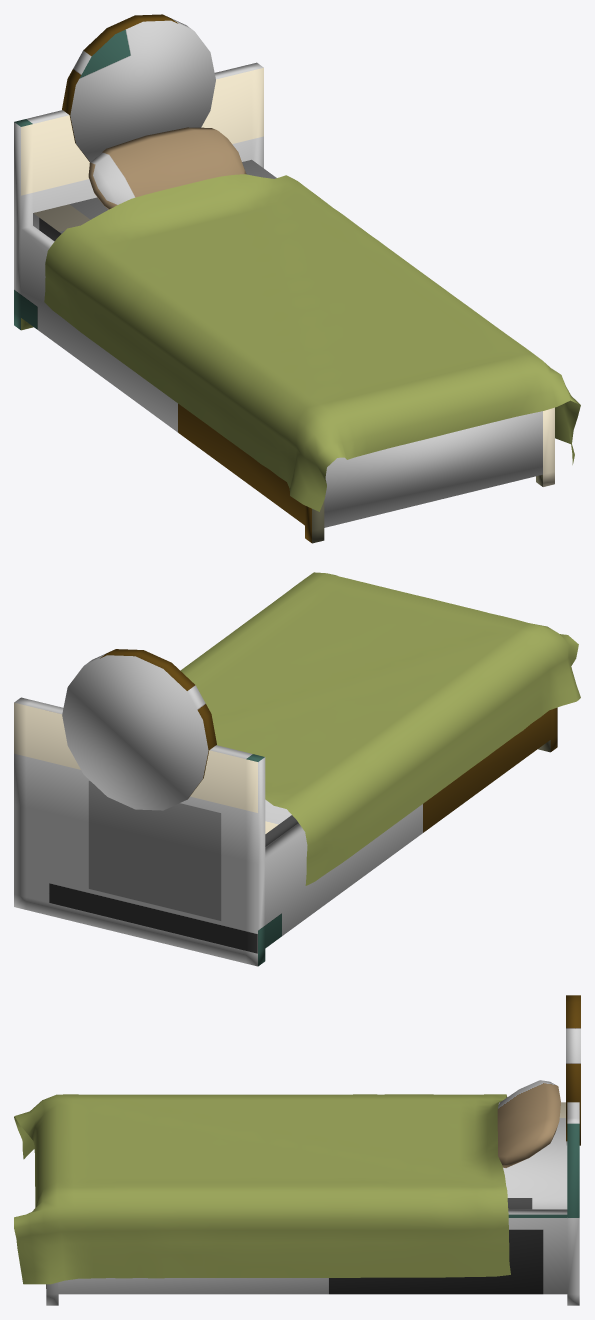
Rendered from ChildBed.fbx.
The picture shows the model from 3 angles, top to bottom: view 1: azimuth 30°, elevation 25°; view 2: azimuth 150°, elevation 25°; view 3: azimuth 270°, elevation 25°; orthographic projection. The views are drawn at different scales.
Visible parts, largest first — view 1: Sheet, Bed; view 2: Bed, Sheet; view 3: Sheet, Bed.
Boxes of the visible parts, left/top/right/bottom form: Sheet: left=44, top=174, right=580, bottom=511; Bed: left=14, top=14, right=554, bottom=543; Bed: left=14, top=649, right=557, bottom=966; Sheet: left=180, top=572, right=580, bottom=885; Sheet: left=14, top=1094, right=510, bottom=1284; Bed: left=46, top=995, right=580, bottom=1305.
Bounding box in the file's own units: 116 × 110 × 226.
